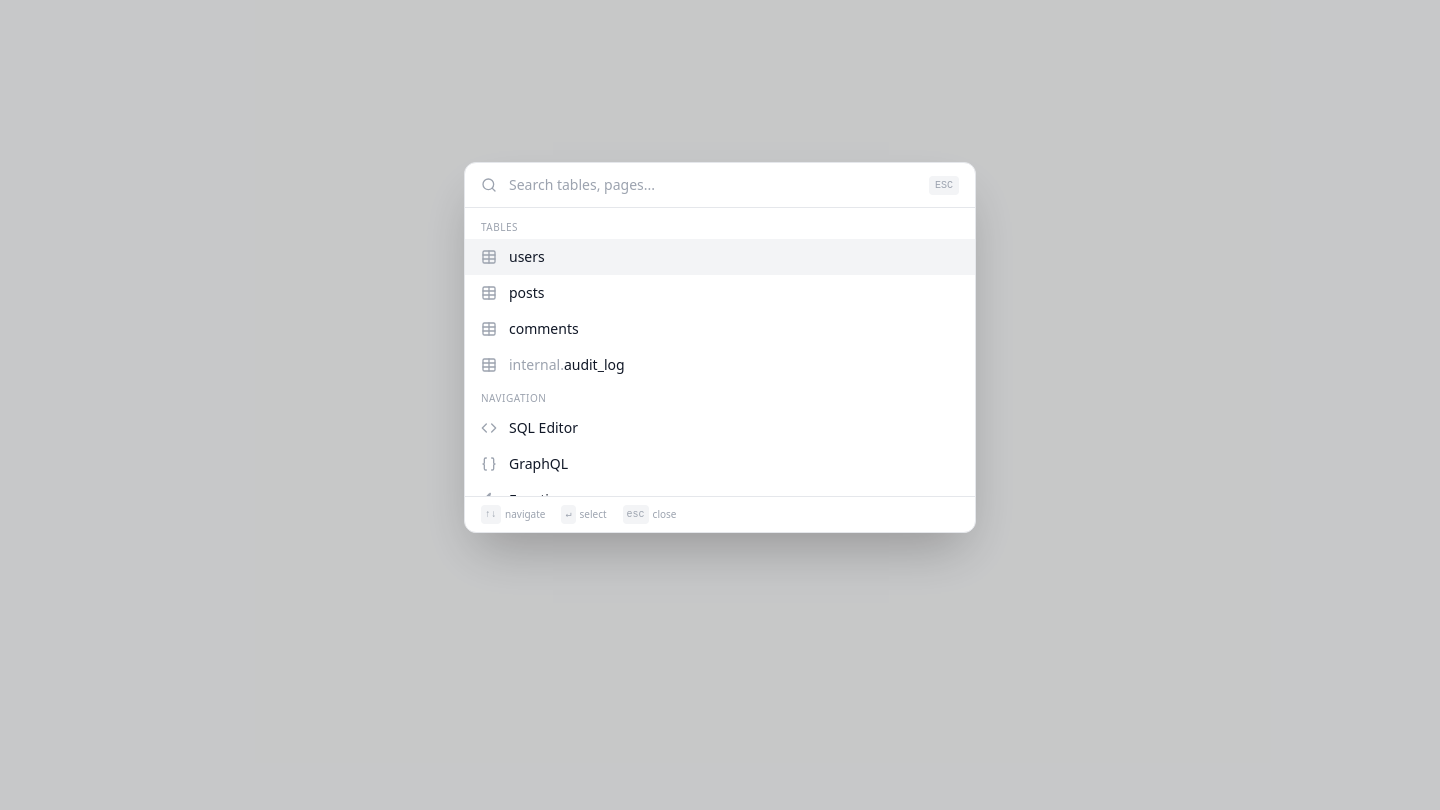
Scenario: CommandPalette › shows no results message when nothing matches
Type "zzzzzznothing" into the field with placeholder "Search tables, pages..." at {"x": 713, "y": 185}, box [509,175,917,195]
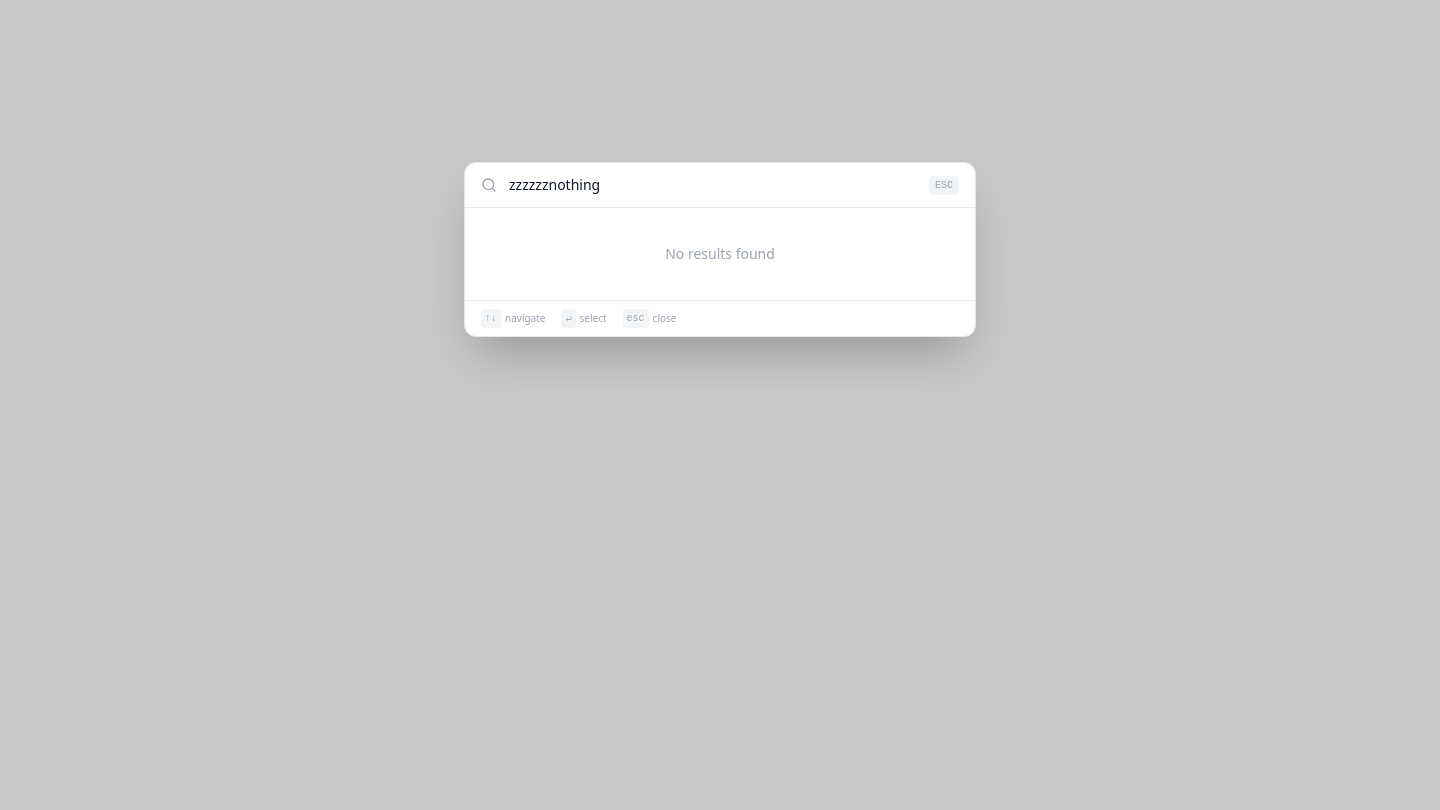
Expected: the text "No results found" is shown, [665,244,775,263]
